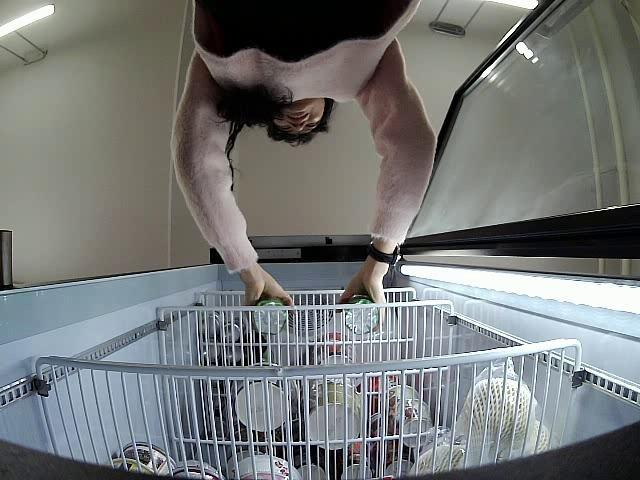18_trevi: (341, 290, 383, 337), (253, 299, 288, 334)
